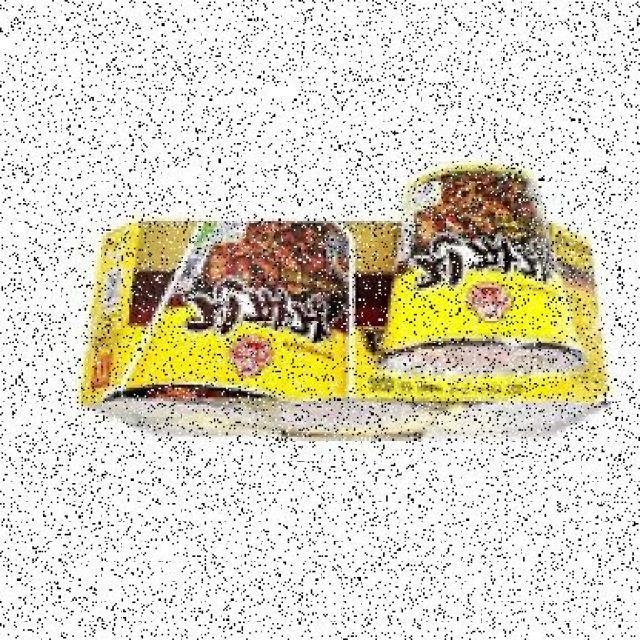Miscellaneous: (369, 156, 594, 395)
